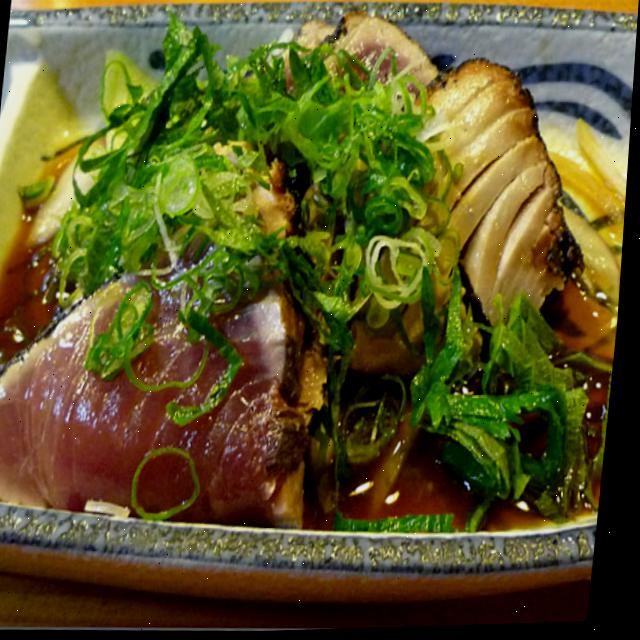熟制海鲜: (135, 0, 640, 636)
